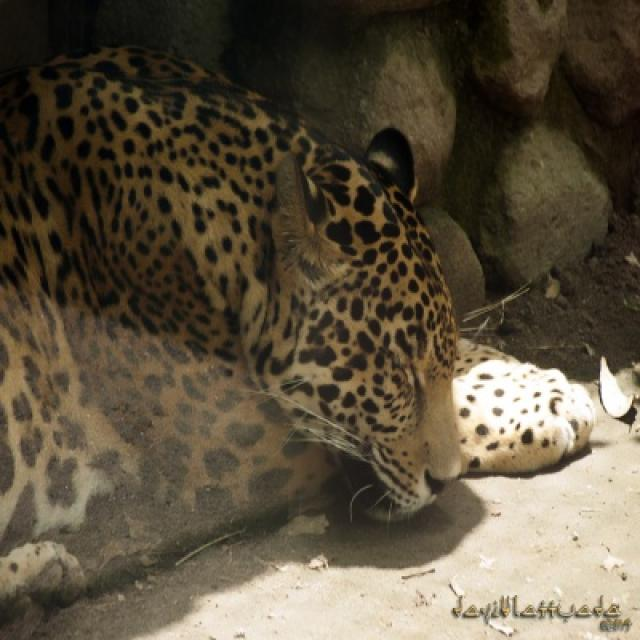Jaguar: (0, 46, 613, 638)
